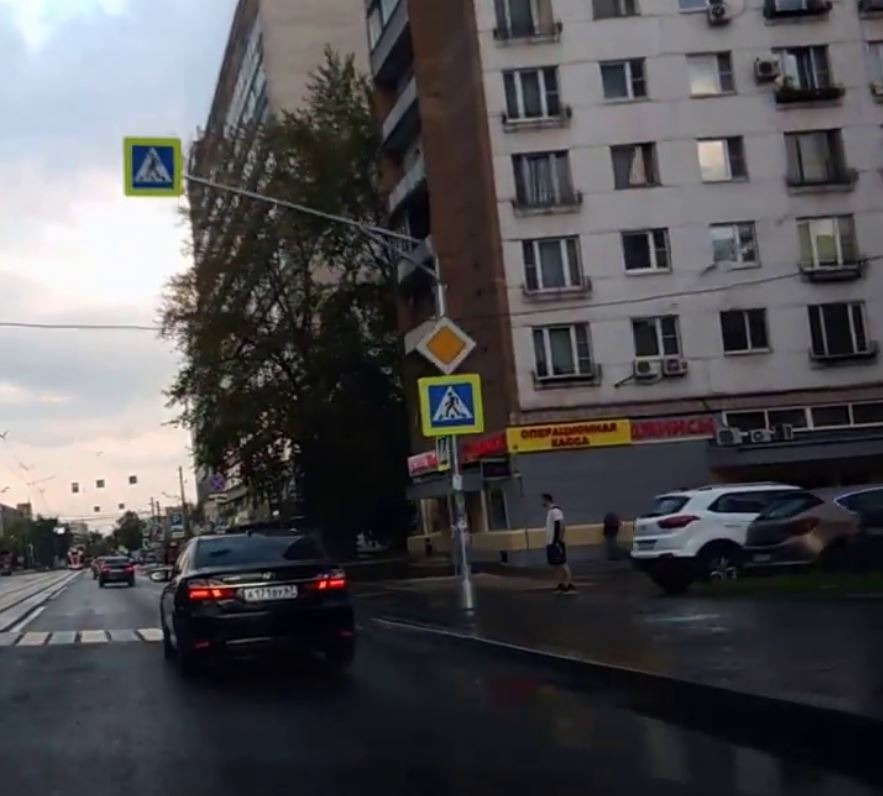Yaya Gecidi: (423, 384, 470, 425), (135, 147, 173, 188)
